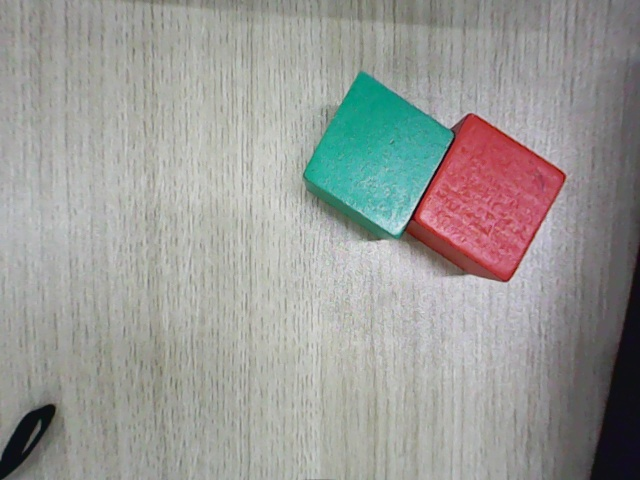upside of big cube: (302, 72, 455, 238), (415, 115, 567, 282)
